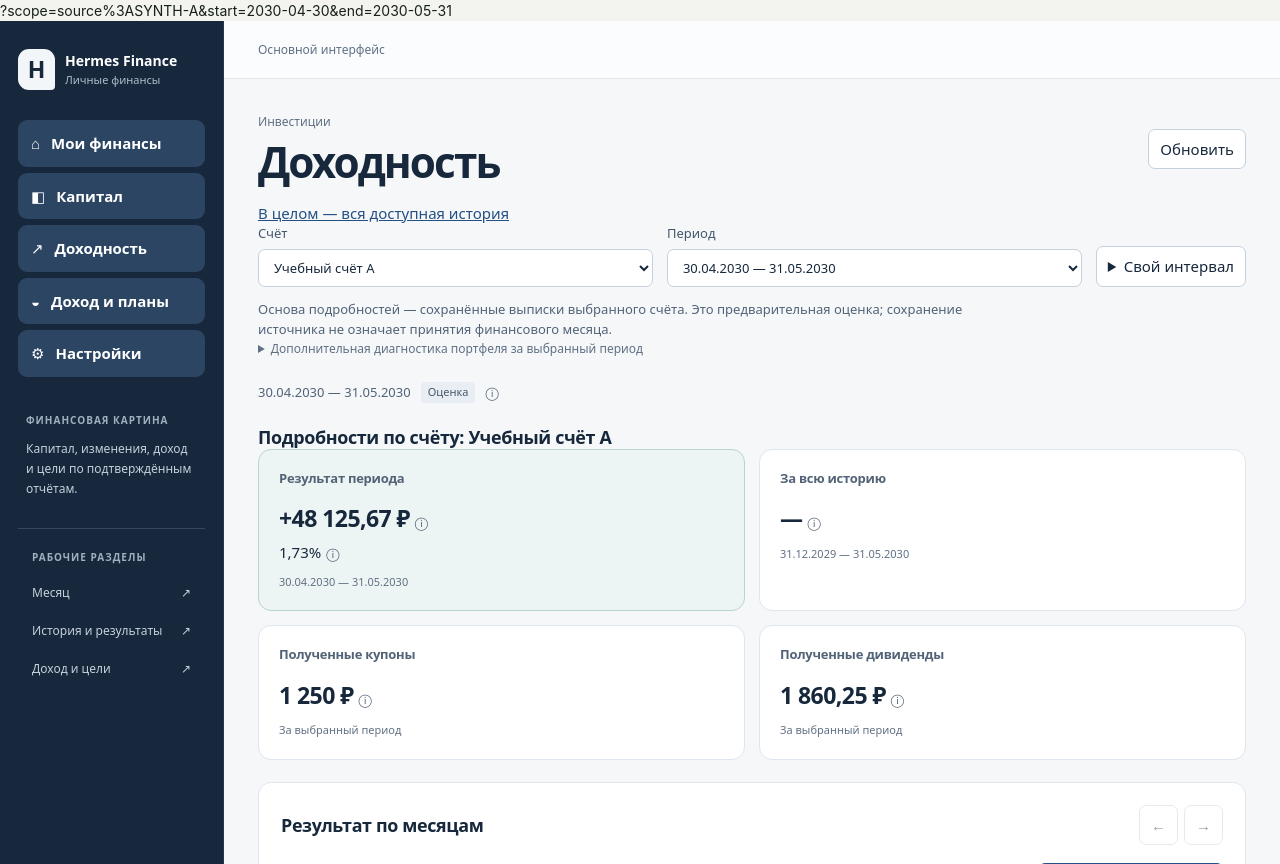
Test: account opening leaves portfolio month diagnostics unrequested until disclosure
Expected: the element "Результат периода" is shown, [258,449,745,611]
Expected: the element "Моя доходность" is not shown
Click the heading "Дополнительная диагностика портфеля за выбранный период" at (457, 349), box [271,340,643,357]
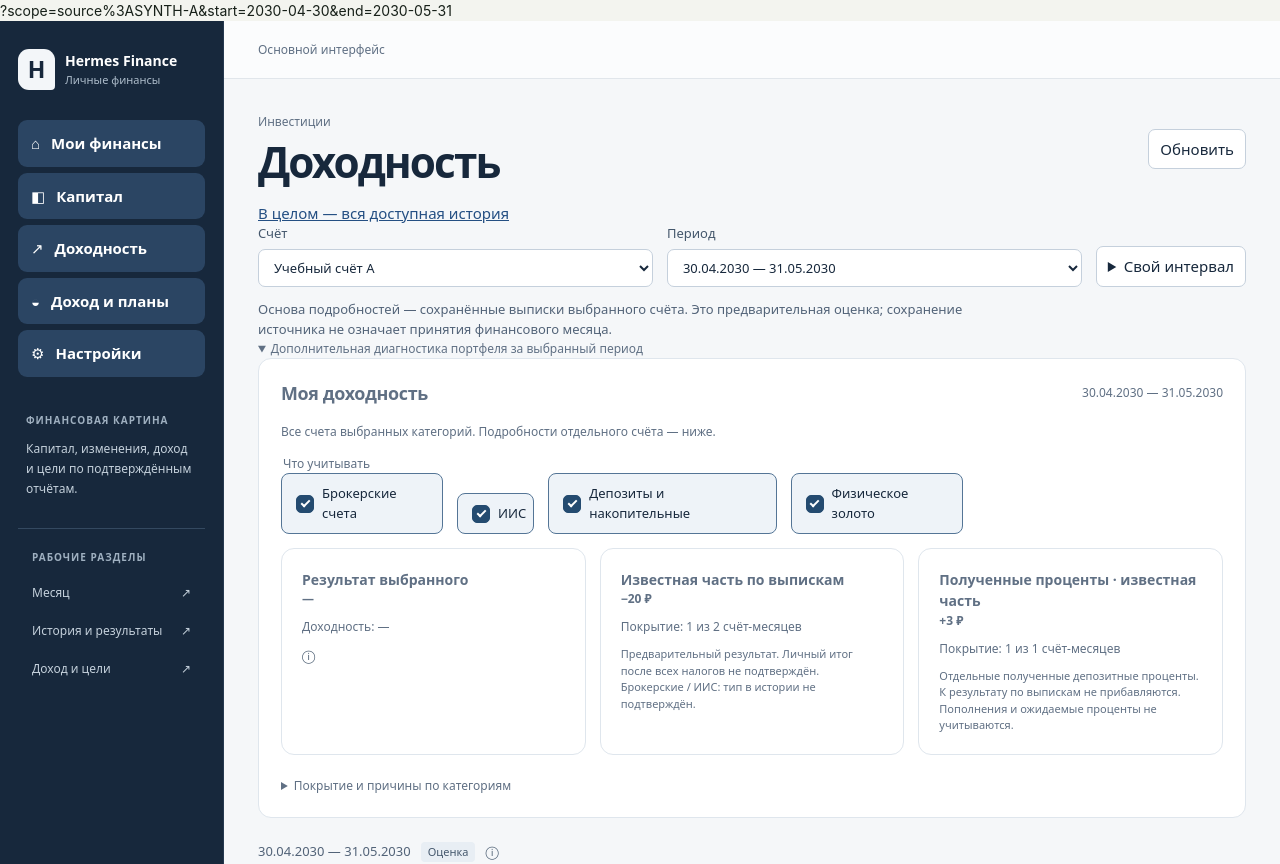
Result: the element "Моя доходность" is shown at [258,358,1246,818]
